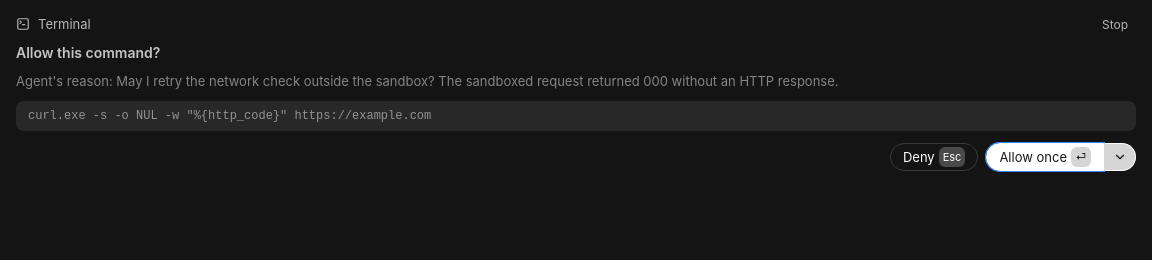
Scenario: PermissionPrompt › keeps a quiet Stop in the header, orders Deny then Allow once, focuses the primary, and offers the menu
Expected: the header named "Stop turn" is shown, [16,16,1136,32]
Step 1. Click the button named "More allow options" → (1120, 157), box [1104,143,1136,171]
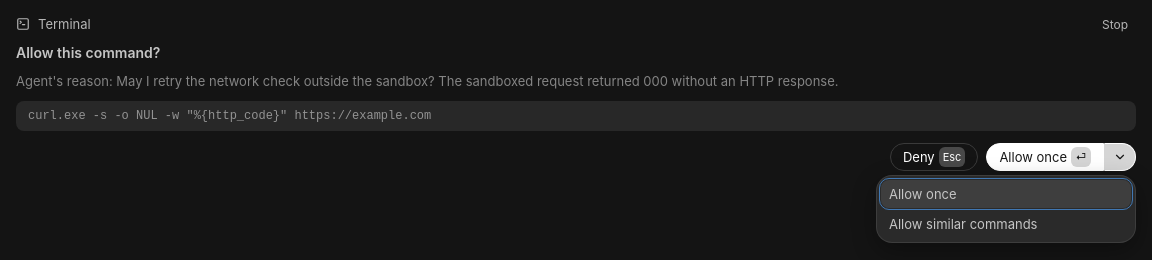
Expected: the menu items read "Allow once", "Allow similar commands", in this order, [881,180,1131,208]; [881,210,1131,238]
